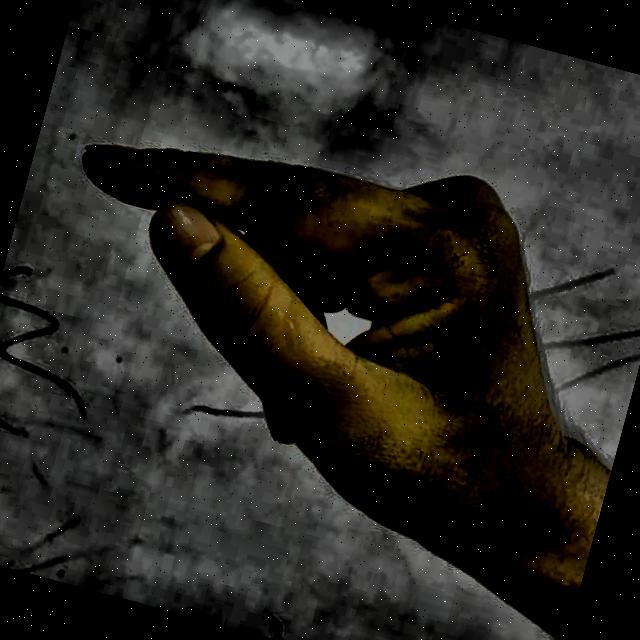Tha: (0, 50, 640, 640)
